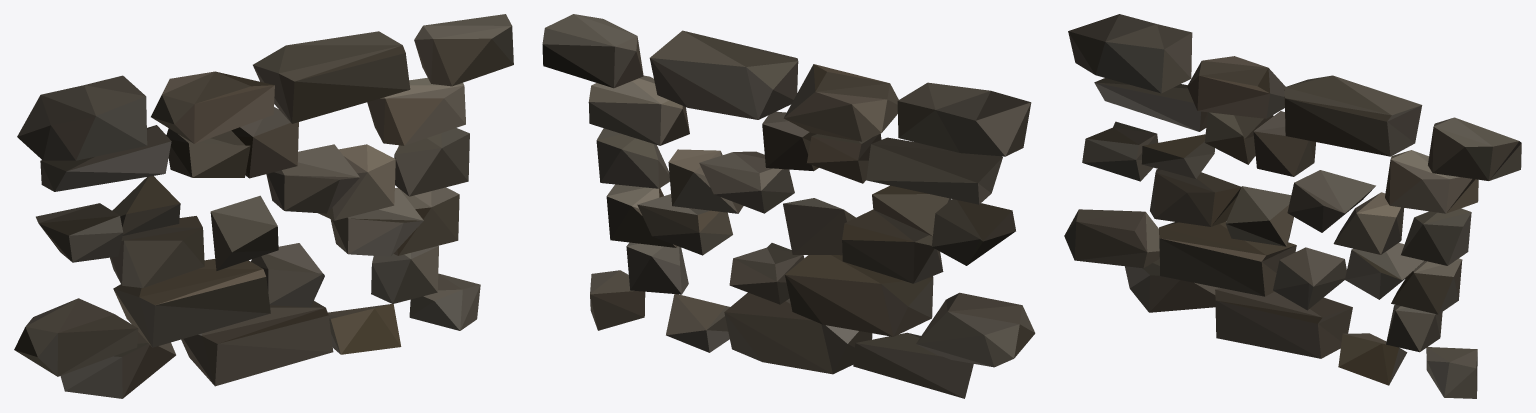
File: Decal-Bricks_A.fbx
3 views of the same model, side by side, from view 1: azimuth 30°, elevation 25°; view 2: azimuth 150°, elevation 25°; view 3: azimuth 330°, elevation 25° (orthographic). The views are drawn at different scales.
Parts seen in each view (by area): view 1: Decal-Bricks_A; view 2: Decal-Bricks_A; view 3: Decal-Bricks_A.
Boxes of the visible parts, x1,y1,x2,y2 form: Decal-Bricks_A: (14,14,513,398); Decal-Bricks_A: (542,14,1035,398); Decal-Bricks_A: (1064,14,1521,398).
Size of the model in its own units: 441 by 272 by 59.55.
